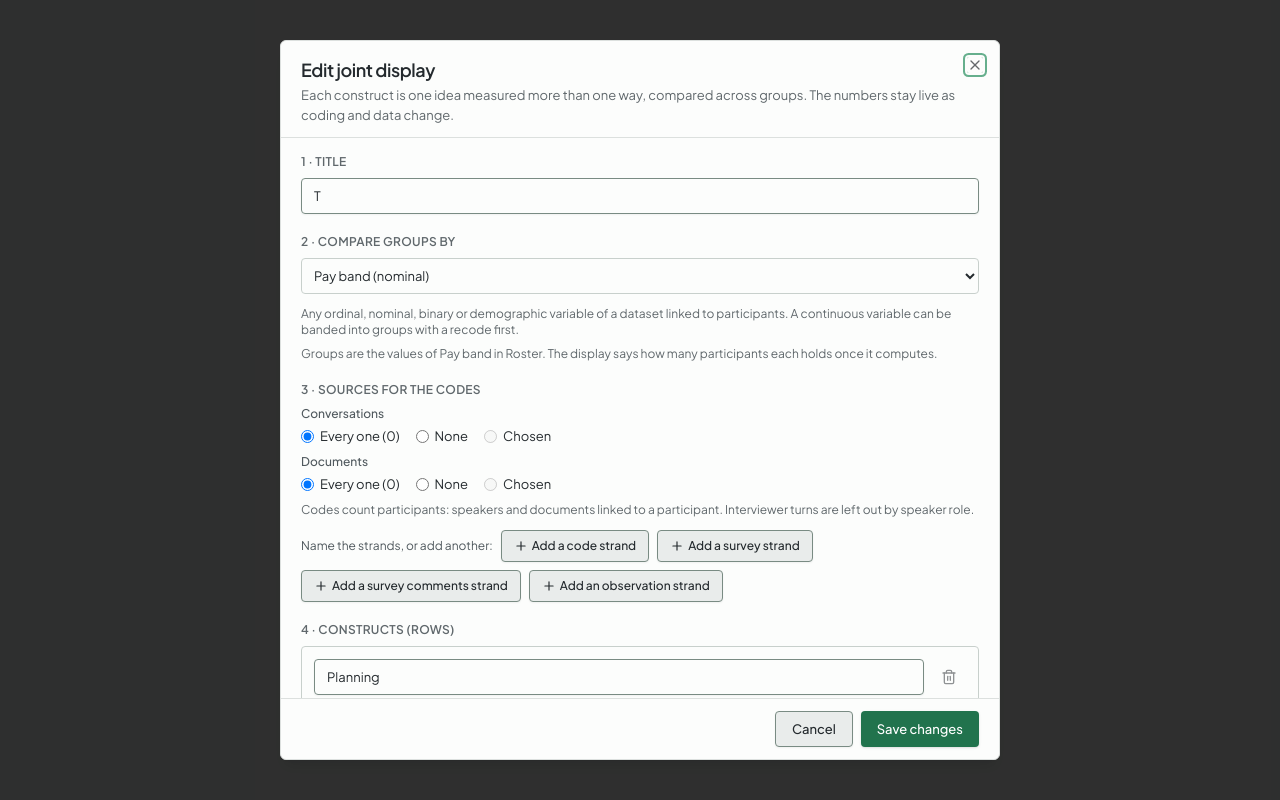
Test: #1688 (D370) — the ask after a kept regroup names the groups, never a guessed variable › names the group the pin sits under, and no variable as the one it was chosen under
Select "Region (nominal)" in the dropdown named "Variable that forms the groups". click: (640, 276)
box: x1=301 y1=258 x2=979 y2=294
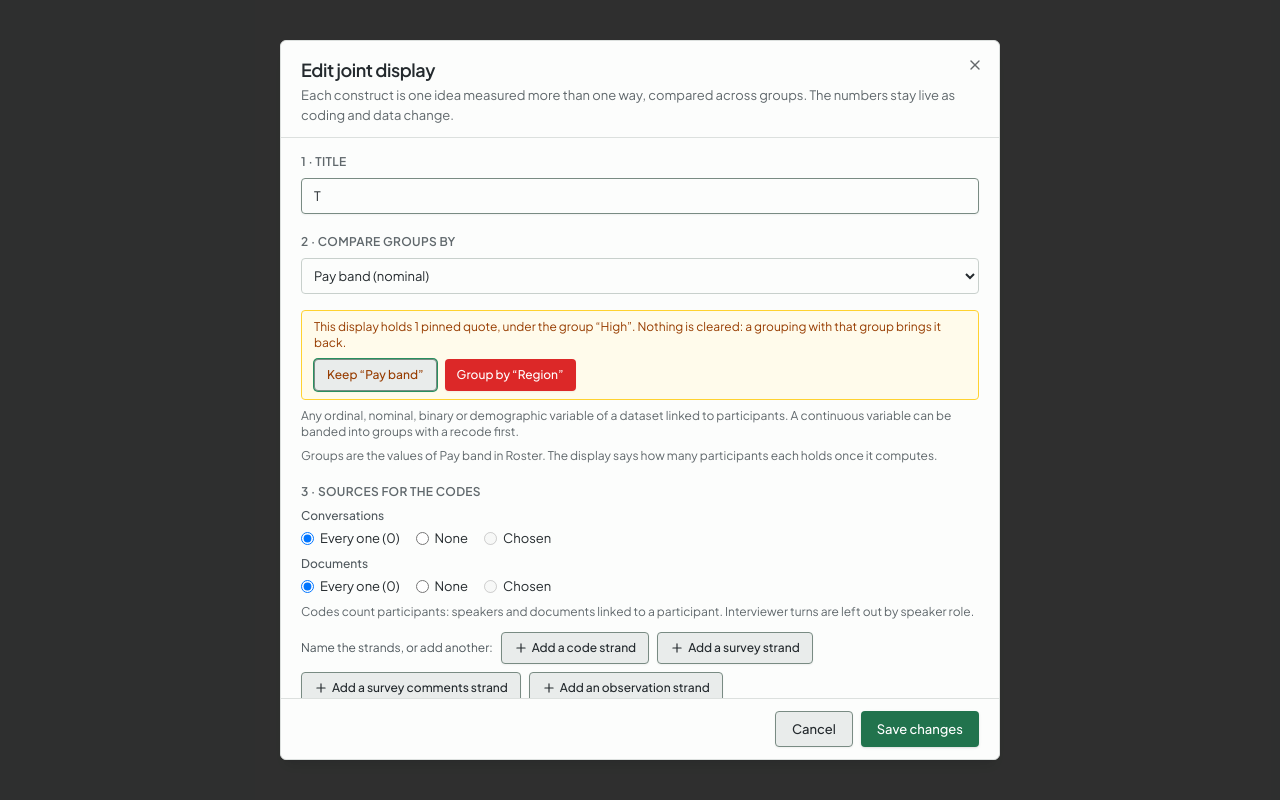
Now the button "Group by “Region”" is shown, box x1=445 y1=359 x2=576 y2=391
